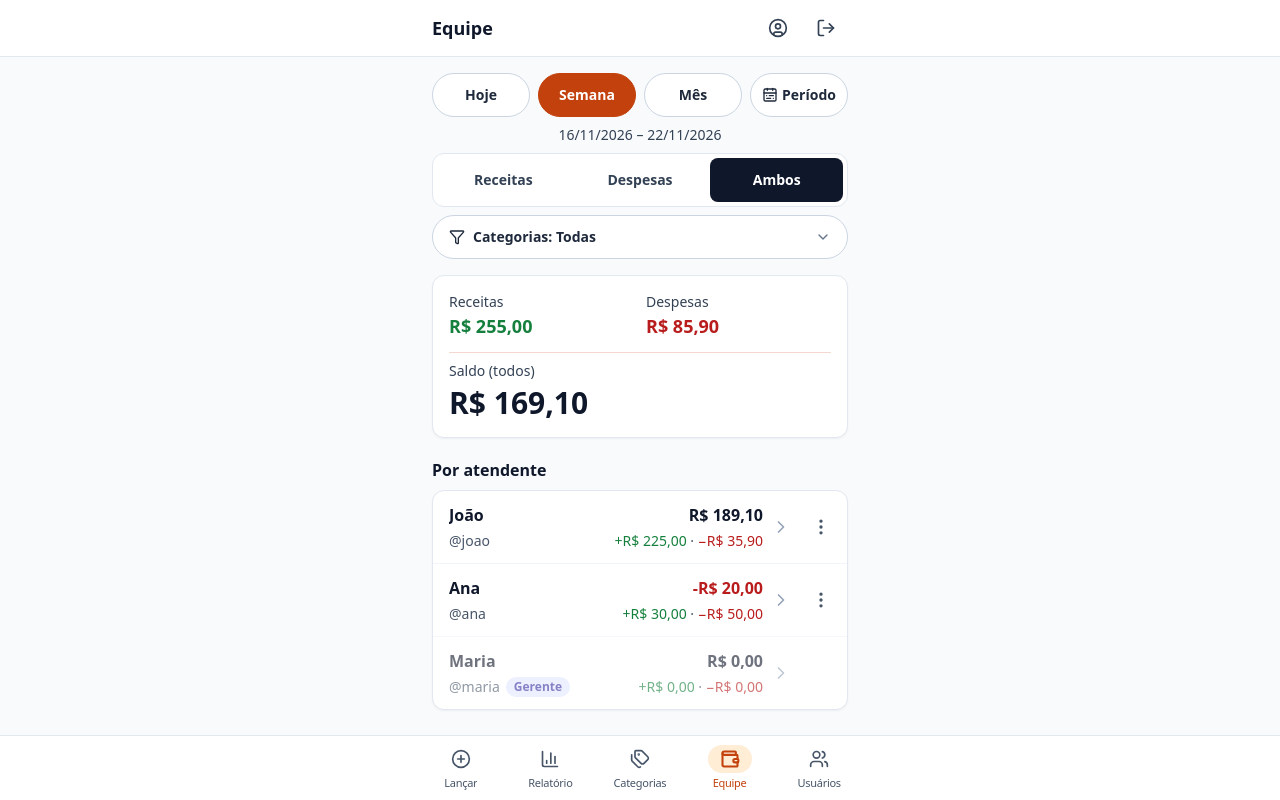
Scenario: Equipe: Receitas | Despesas | Ambos › tocar num atendente abre o relatório dele com o mesmo tipo e período
This screenshot has width=1280, height=800.
Click the link with aria-label "João:". click: (466, 515)
box: [433,491,799,563]
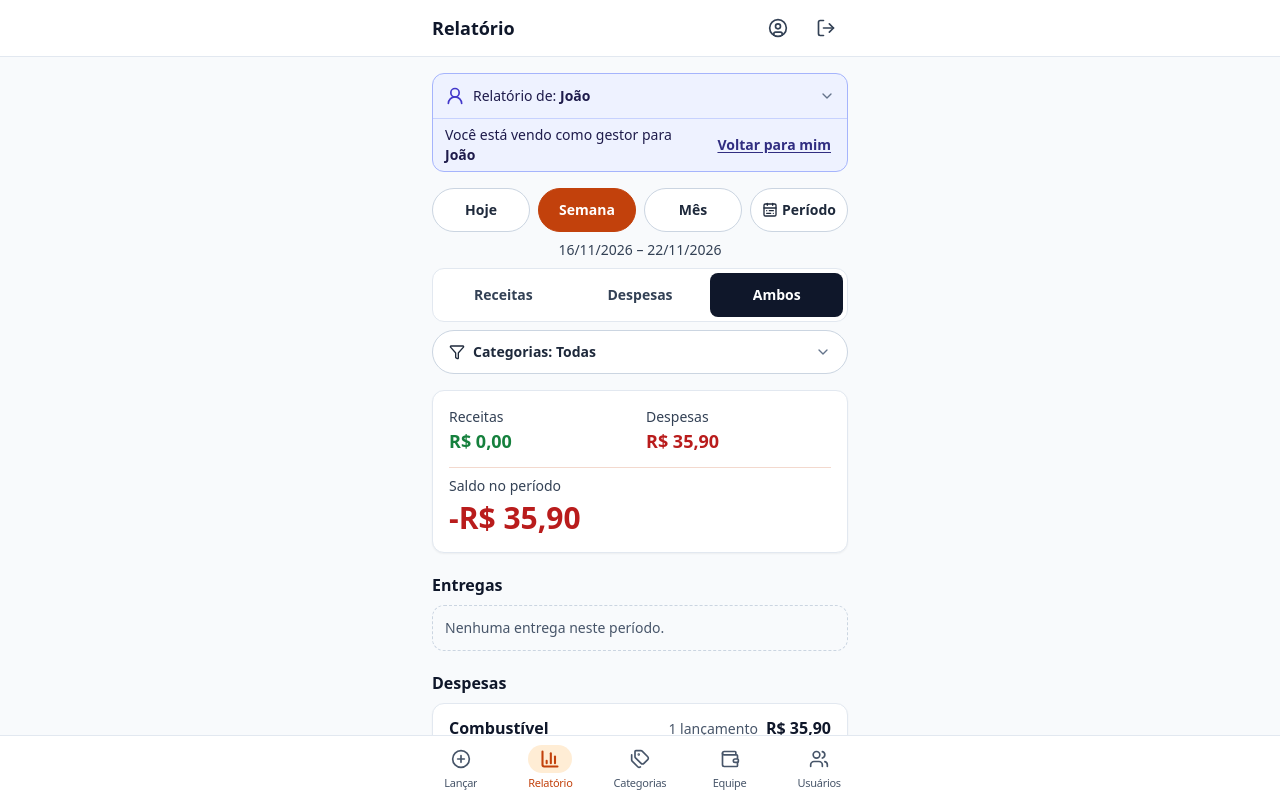
Check: the button "Relatório de: João" is shown, box [433,74,847,118]
